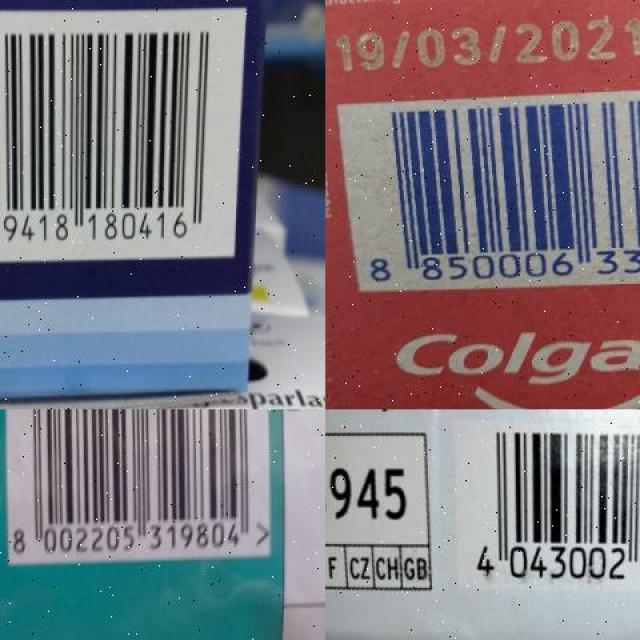Barcode: (0, 8, 247, 261), (362, 86, 640, 286), (4, 409, 273, 560), (453, 417, 640, 595)
